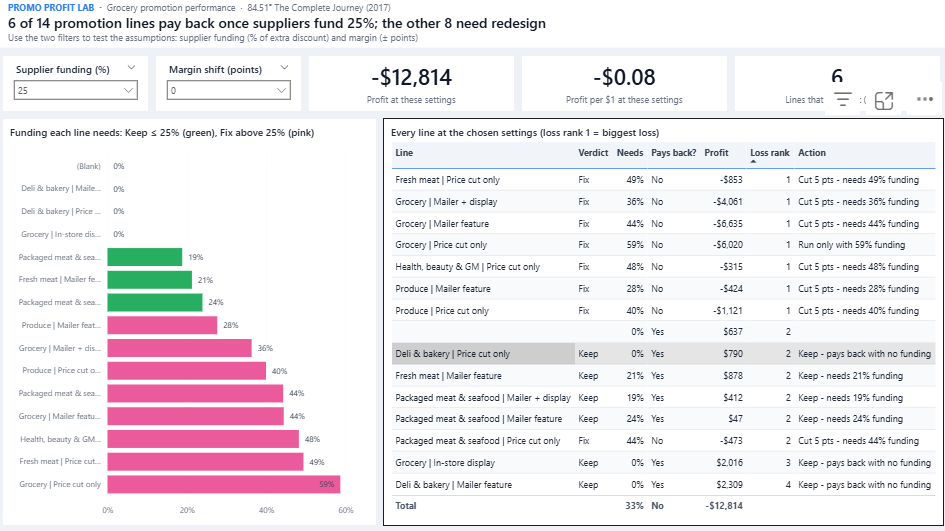

This screenshot's page, from the dashboard's own definition file:
{"tool":"powerbi","page":{"name":"Keep or fix","canvas":[1280,720],"ordinal":2},"visuals":[{"type":"textbox","box":[0,0,1280,70],"z":1000},{"type":"slicer","fields":{"Values":["param_supplier_share.supplier_share_pct"]},"box":[12,80,196,76],"z":2000},{"type":"slicer","fields":{"Values":["param_margin_shift.margin_shift_pts"]},"box":[216,80,196,76],"z":3000},{"type":"card","fields":{"Values":["_Measures.Scenario Incremental GP"]},"box":[420,80,276,76],"z":4000},{"type":"card","fields":{"Values":["_Measures.Scenario Return per $1"]},"box":[704,80,276,76],"z":5000},{"type":"card","fields":{"Values":["_Measures.Lines Paying Back"]},"box":[988,80,276,76],"z":6000},{"type":"clusteredBarChart","title":"Funding each line needs: Keep ≤ 25% (green), Fix above 25% (pink)","fields":{"Category":["promo_cells_decisions.cell_key"],"Y":["_Measures.Break-even Supplier Share"]},"box":[12,164,500,544],"z":7000},{"type":"tableEx","title":"Every line at the chosen settings (loss rank 1 = biggest loss)","fields":{"Values":["promo_cells_decisions.cell_key","promo_cells_decisions.verdict","_Measures.Break-even Supplier Share","_Measures.Pays Back?","_Measures.Scenario Incremental GP","_Measures.Loss Rank","promo_cells_decisions.action_short"]},"box":[520,164,748,544],"z":8000}]}

Visuals, with their boxes in screenshot pixels (x1, y1, x2, y2), scaled from the page's 1280x720 canvas onto the 945x531 screenshot:
textbox: left=0, top=0, right=944, bottom=52
slicer - param_supplier_share.supplier_share_pct: left=9, top=59, right=154, bottom=115
slicer - param_margin_shift.margin_shift_pts: left=159, top=59, right=304, bottom=115
card - _Measures.Scenario Incremental GP: left=310, top=59, right=514, bottom=115
card - _Measures.Scenario Return per $1: left=520, top=59, right=724, bottom=115
card - _Measures.Lines Paying Back: left=729, top=59, right=933, bottom=115
"Funding each line needs: Keep ≤ 25% (green), Fix above 25% (pink)" clusteredBarChart: left=9, top=121, right=378, bottom=522
"Every line at the chosen settings (loss rank 1 = biggest loss)" tableEx: left=384, top=121, right=936, bottom=522
